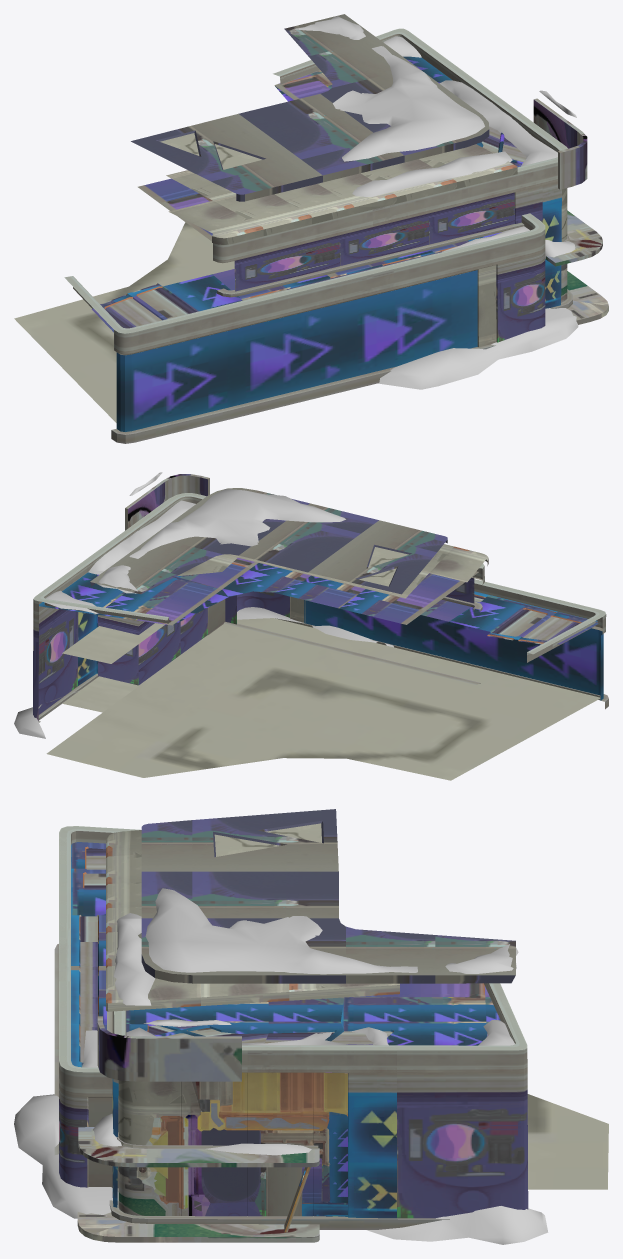
Rendered from pref_sm_city_shop10_snow_lv3.fbx.
3 views of the same model, one above another, from view 1: azimuth 30°, elevation 25°; view 2: azimuth 150°, elevation 25°; view 3: azimuth 270°, elevation 25° (orthographic). The views are drawn at different scales.
Parts seen in each view (by area): view 1: sm_city_shop10_snow_lv3, sm_city_shop10b_snow_lv3; view 2: sm_city_shop10_snow_lv3, sm_city_shop10b_snow_lv3; view 3: sm_city_shop10_snow_lv3, sm_city_shop10b_snow_lv3.
Boxes of the visible parts, x1,y1,x2,y2 form: sm_city_shop10_snow_lv3: (14, 14, 608, 443); sm_city_shop10b_snow_lv3: (292, 16, 578, 389); sm_city_shop10_snow_lv3: (33, 474, 608, 780); sm_city_shop10b_snow_lv3: (14, 472, 393, 738); sm_city_shop10_snow_lv3: (54, 809, 608, 1242); sm_city_shop10b_snow_lv3: (14, 888, 548, 1244).
Bounding box in the file's own units: 26.58 × 9.78 × 22.87.
